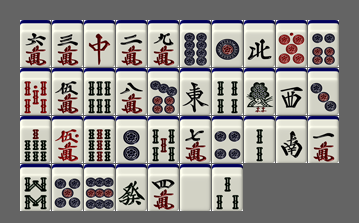0m: (52, 116, 83, 163)
0p: (276, 20, 307, 67)
0s: (20, 68, 51, 115)
1m: (308, 116, 339, 163)
1p: (212, 20, 243, 67)
1s: (244, 68, 275, 115)
1z: (180, 68, 211, 115)
2m: (116, 20, 147, 67)
2p: (116, 116, 147, 163)
2s: (244, 116, 275, 163)
2z: (276, 116, 307, 163)
3m: (52, 20, 83, 67)
3p: (308, 68, 339, 115)
3s: (212, 164, 243, 211)
3z: (276, 68, 307, 115)
4m: (148, 164, 179, 211)
4p: (212, 116, 243, 163)
4s: (212, 68, 243, 115)
4z: (244, 20, 275, 67)
5m: (52, 68, 83, 115)
5p: (52, 164, 83, 211)
5s: (148, 116, 179, 163)
5z: (180, 164, 211, 211)
6m: (20, 20, 51, 67)
6p: (308, 20, 339, 67)
6s: (84, 68, 115, 115)
6z: (116, 164, 147, 211)
7m: (180, 116, 211, 163)
7p: (148, 68, 179, 115)
7s: (20, 116, 51, 163)
7z: (84, 20, 115, 67)
8m: (116, 68, 147, 115)
8p: (180, 20, 211, 67)
8s: (20, 164, 51, 211)
9m: (148, 20, 179, 67)
9p: (84, 164, 115, 211)
9s: (84, 116, 115, 163)
